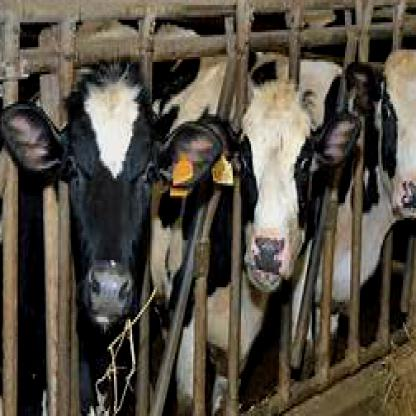cow: (2, 70, 223, 330), (221, 82, 363, 294), (345, 52, 414, 228)
